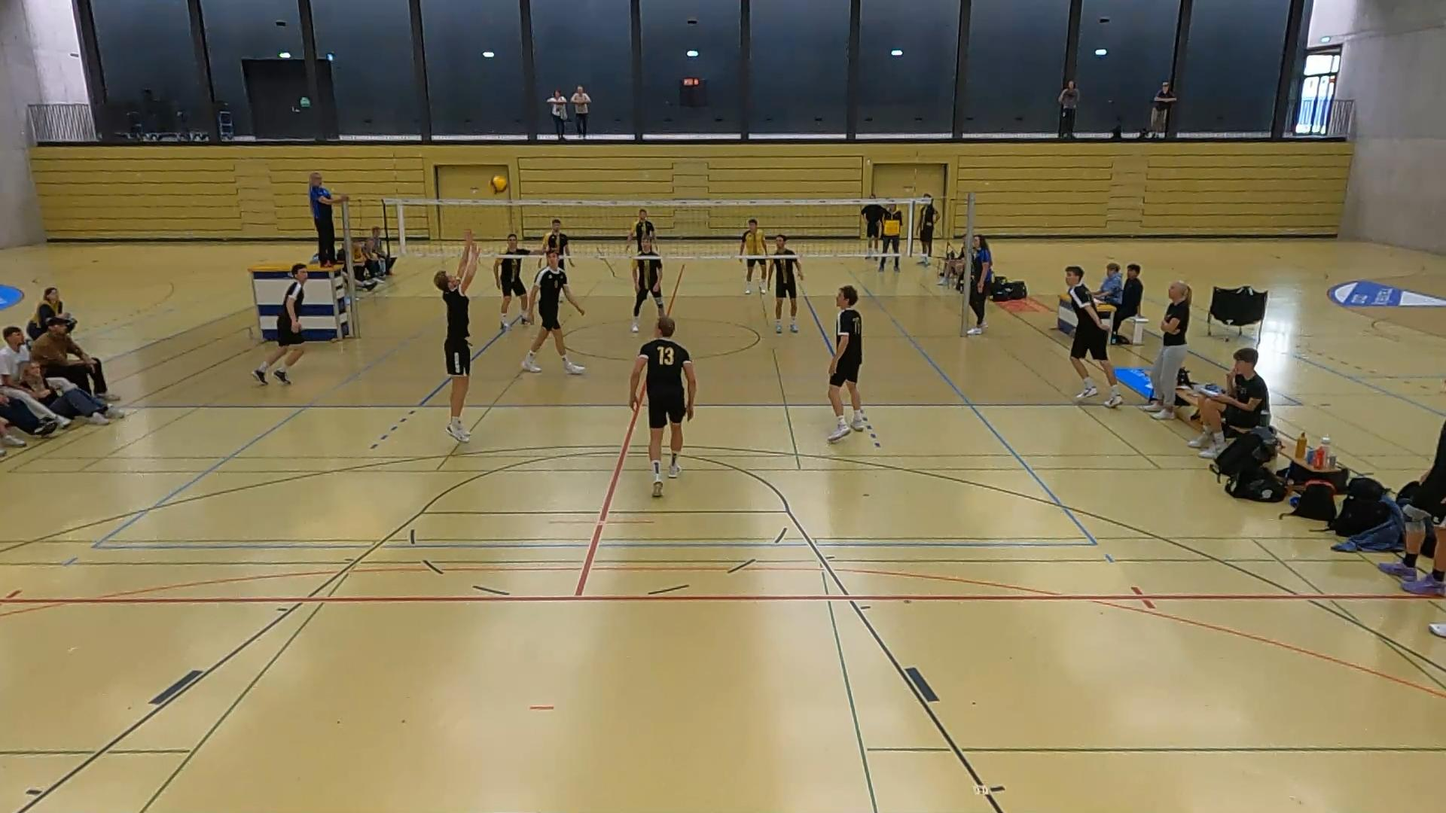Player: (630, 315, 696, 496), (434, 231, 477, 442), (522, 249, 584, 374), (252, 263, 307, 385), (827, 285, 865, 443), (493, 233, 529, 329), (631, 236, 664, 332), (771, 234, 802, 333), (740, 218, 767, 294), (542, 218, 570, 269), (626, 209, 654, 250)
Set: (429, 225, 487, 452)
ball: (487, 173, 508, 195)
